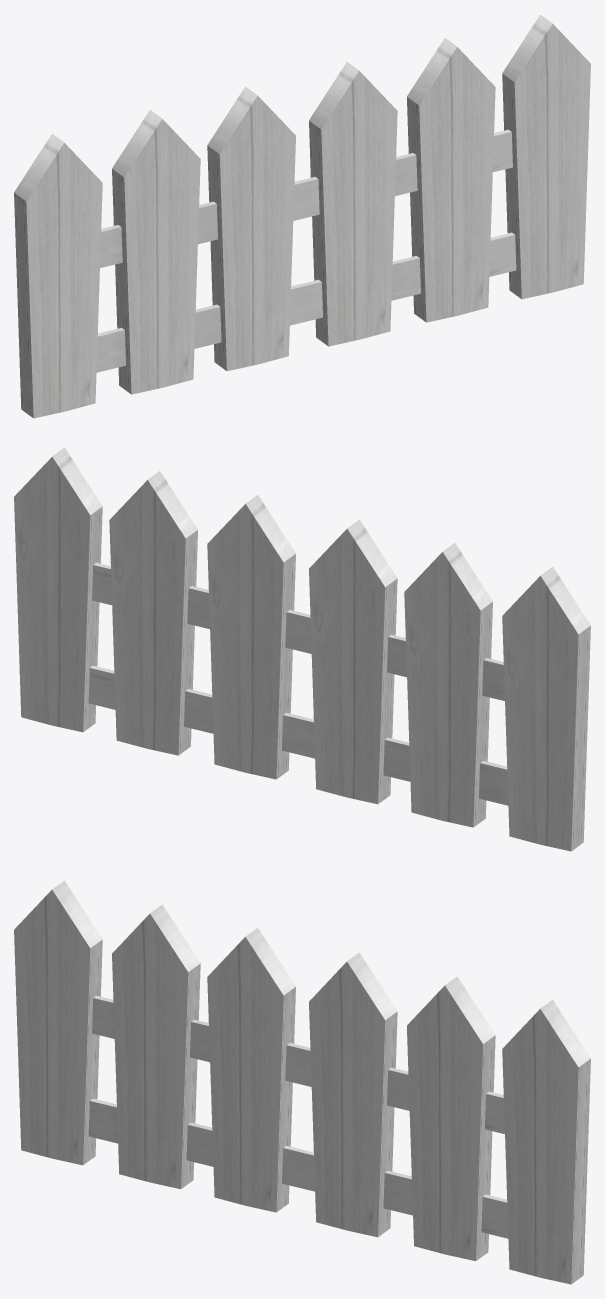
The model's file is fence.fbx.
The picture shows the model from 3 angles, top to bottom: view 1: azimuth 30°, elevation 25°; view 2: azimuth 150°, elevation 25°; view 3: azimuth 330°, elevation 25°; orthographic projection.
Parts seen in each view (by area): view 1: pCube1, pCube4, pCube6, pCube2, pCube3, pCube5, pCube7, pCube8; view 2: pCube1, pCube4, pCube6, pCube2, pCube3, pCube5, pCube7, pCube8; view 3: pCube5, pCube3, pCube6, pCube2, pCube1, pCube4, pCube7, pCube8.
Part boxes in pixels (<box>): pCube1: <box>14,134,102,418</box>; pCube4: <box>309,62,397,346</box>; pCube6: <box>407,38,495,322</box>; pCube2: <box>112,110,200,394</box>; pCube3: <box>207,86,295,371</box>; pCube5: <box>502,14,590,299</box>; pCube7: <box>96,232,516,372</box>; pCube8: <box>100,129,512,267</box>; pCube1: <box>502,567,590,851</box>; pCube4: <box>207,495,295,779</box>; pCube6: <box>109,471,197,755</box>; pCube2: <box>404,543,492,827</box>; pCube3: <box>309,519,397,804</box>; pCube5: <box>14,447,102,732</box>; pCube7: <box>88,665,508,805</box>; pCube8: <box>92,562,504,700</box>; pCube5: <box>502,999,590,1284</box>; pCube3: <box>207,927,295,1212</box>; pCube6: <box>407,976,495,1261</box>; pCube2: <box>112,904,200,1189</box>; pCube1: <box>14,880,102,1165</box>; pCube4: <box>309,952,397,1237</box>; pCube7: <box>88,1098,508,1238</box>; pCube8: <box>92,995,504,1133</box>.
Size of the model in its own units: 7.39 by 3.37 by 0.2815.
Materials: 1 (1 with a texture image).
